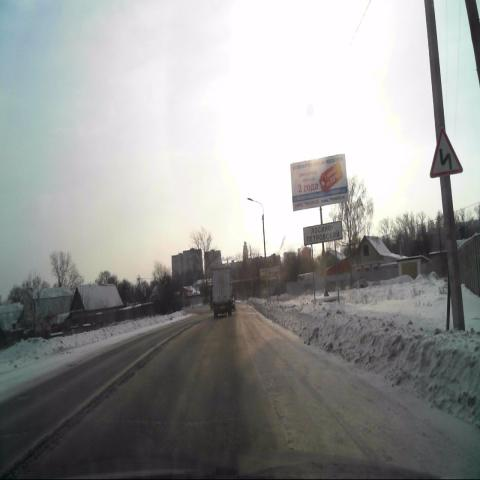1_12_2: (430, 129, 464, 178)
